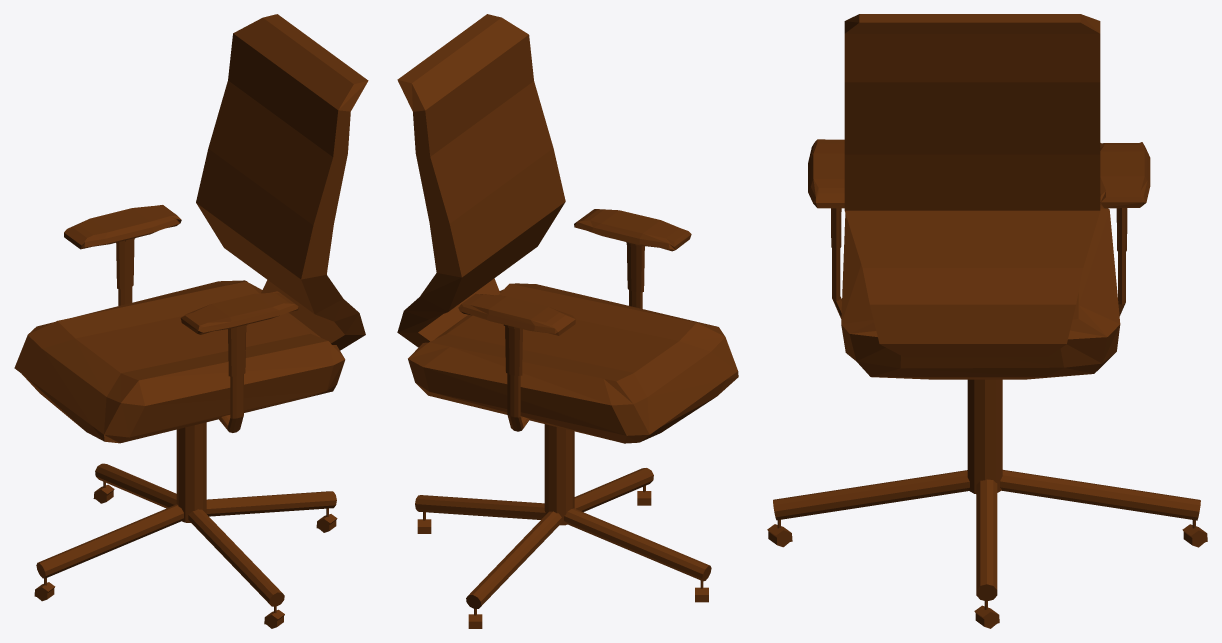
The model's file is stoel.fbx.
The picture shows the model from 3 angles, left to right: view 1: azimuth 30°, elevation 25°; view 2: azimuth 150°, elevation 25°; view 3: azimuth 270°, elevation 25°; orthographic projection. The views are drawn at different scales.
Parts seen in each view (by area): view 1: polySurface48; view 2: polySurface48; view 3: polySurface48.
Part boxes in pixels (left/top/right/bottom): polySurface48: left=14, top=14, right=368, bottom=628; polySurface48: left=397, top=14, right=738, bottom=628; polySurface48: left=767, top=14, right=1207, bottom=628.
Size of the model in its own units: 68.16 by 107 by 71.58.
